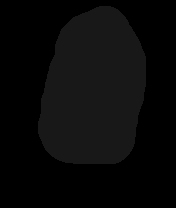fp: (22, 3, 163, 175)
